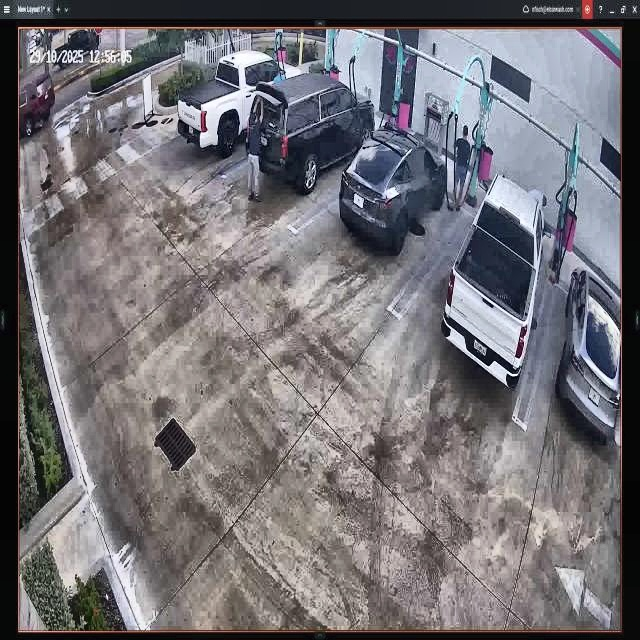Car: (442, 172, 548, 384), (249, 74, 374, 191), (342, 124, 448, 255), (176, 51, 302, 155)
